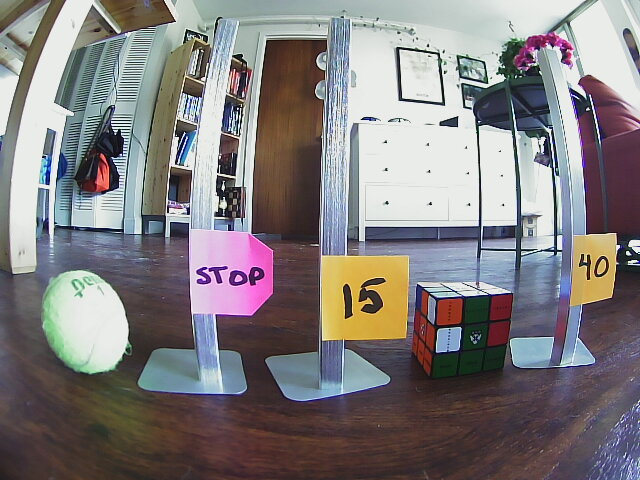15: (323, 256, 406, 336)
40: (571, 236, 616, 304)
ball: (42, 271, 128, 373)
cube: (414, 283, 514, 375)
stop: (191, 230, 269, 314)
